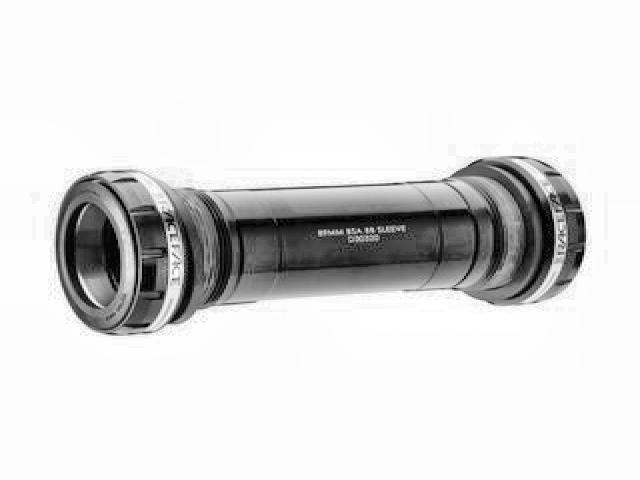bottom_bracket: (56, 152, 588, 336)
